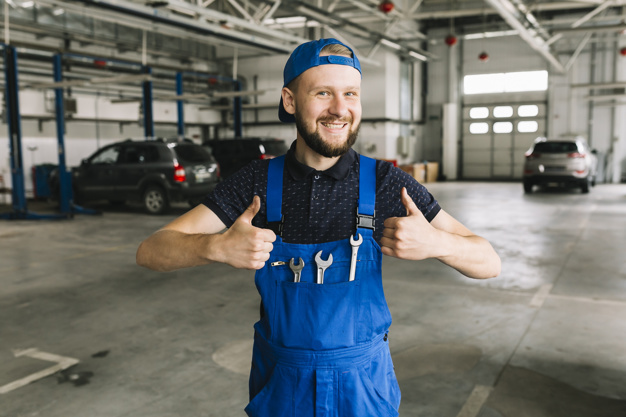thumbsup: (240, 195, 277, 270), (381, 186, 417, 258)
